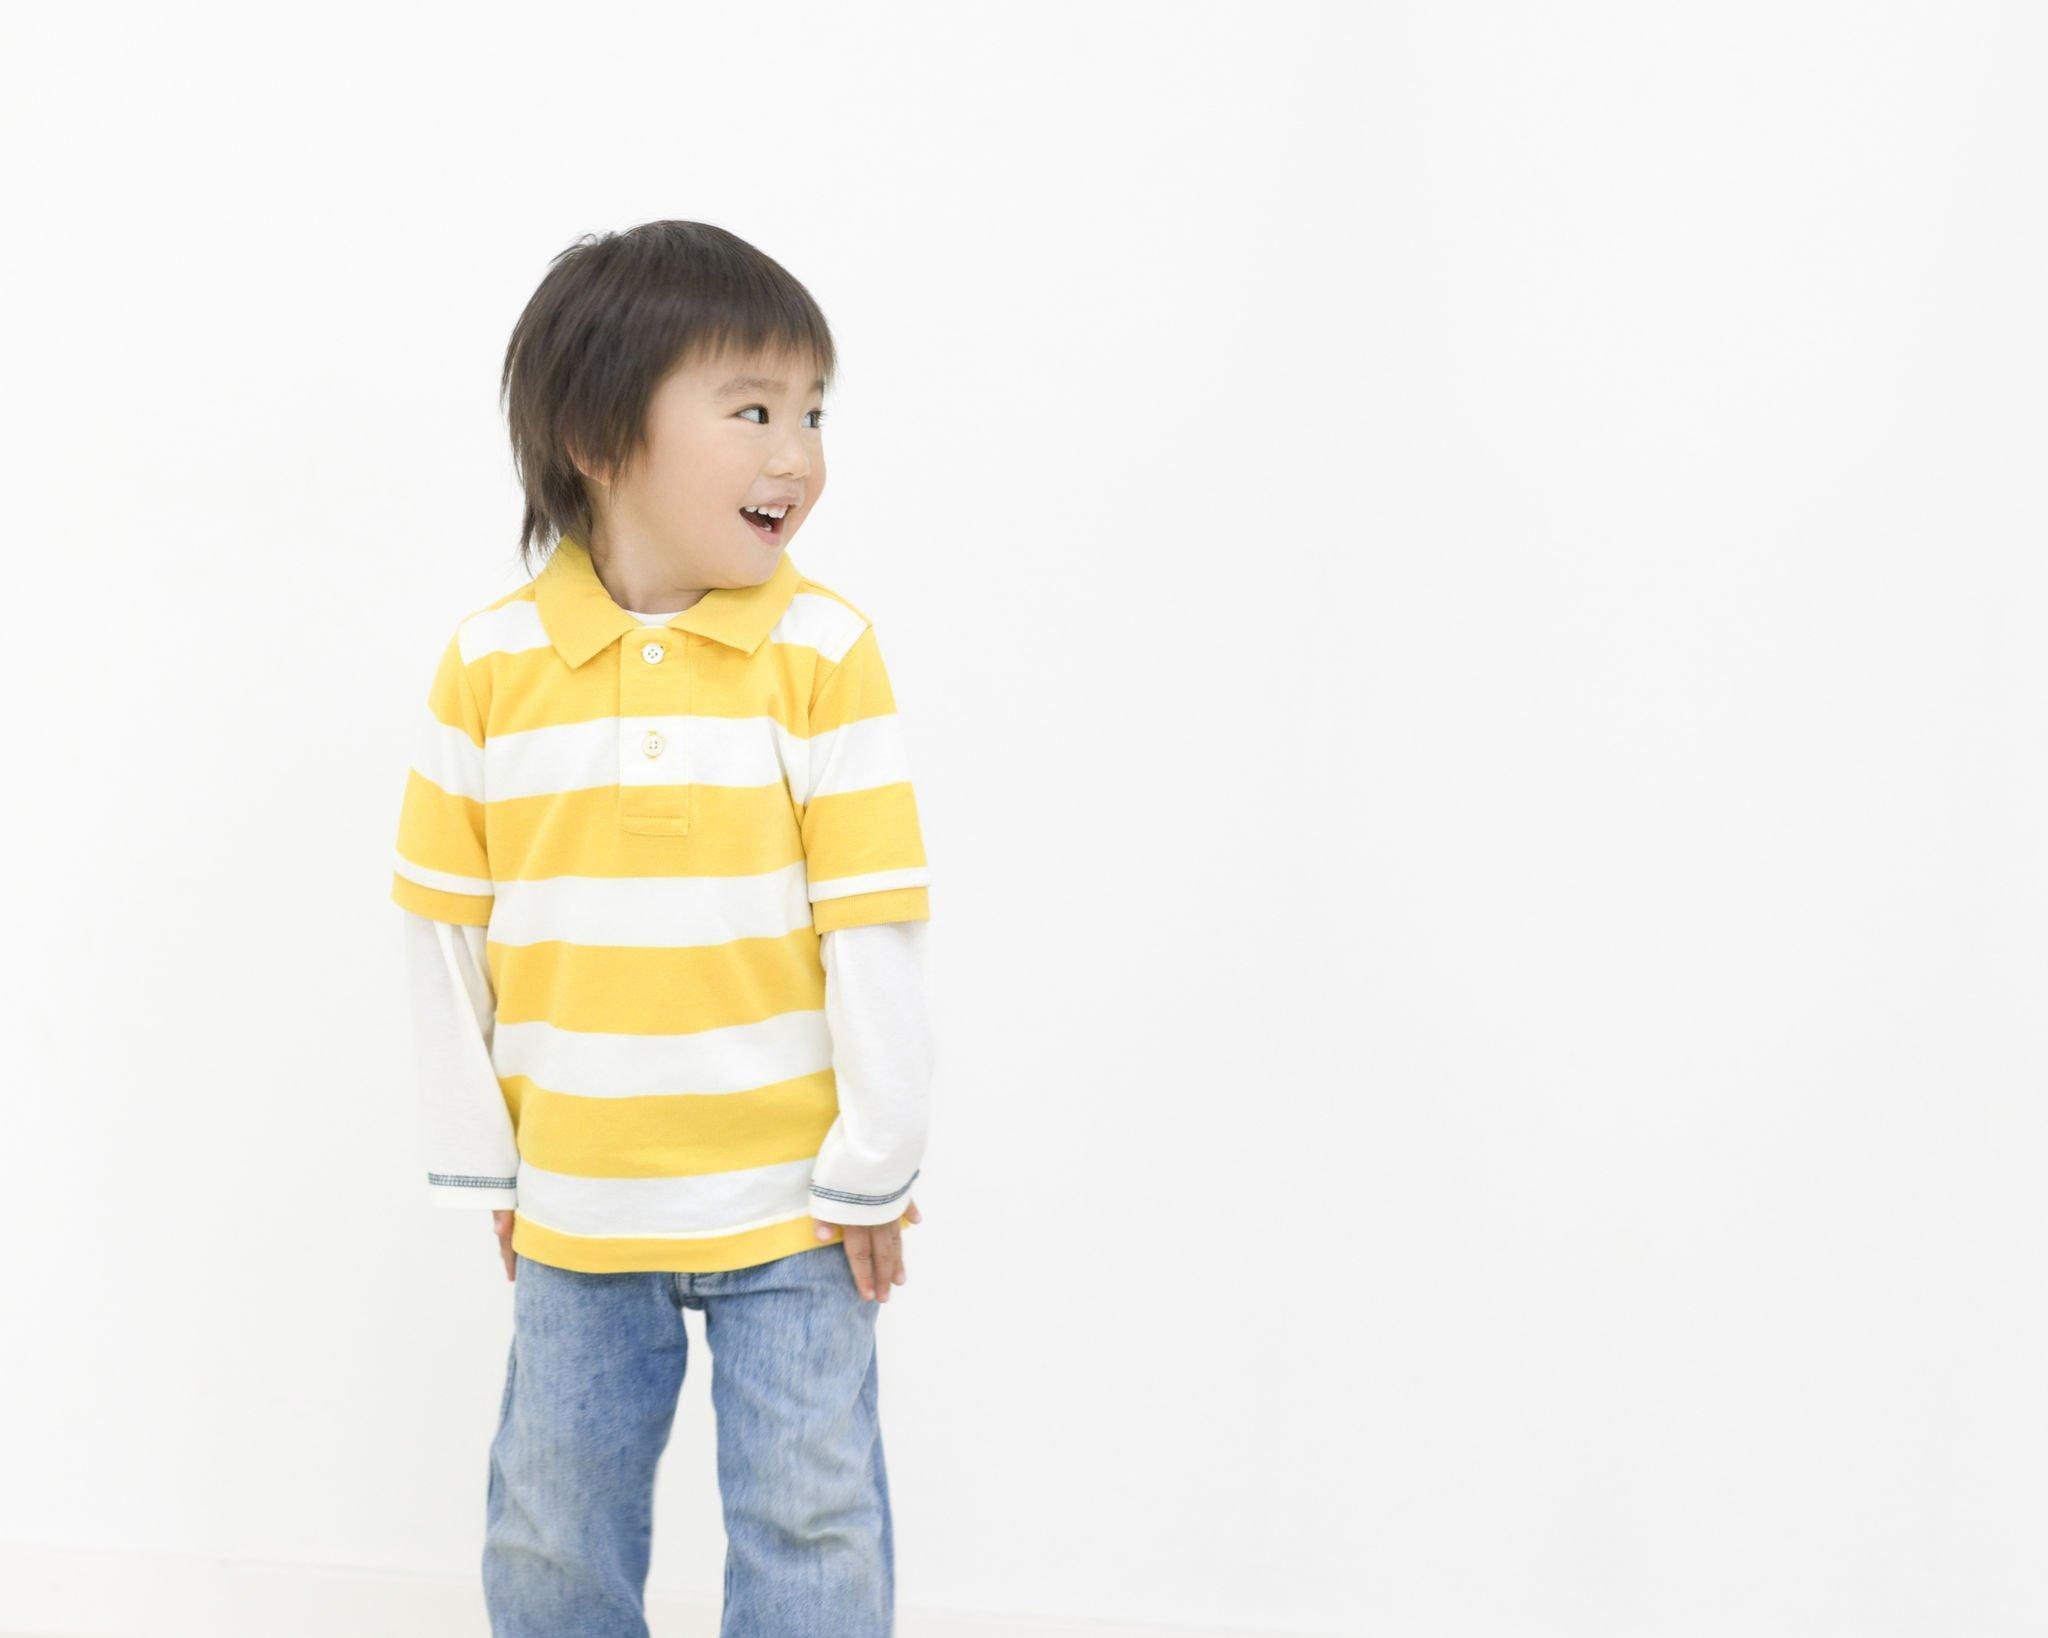Healthy: (582, 247, 866, 603)
